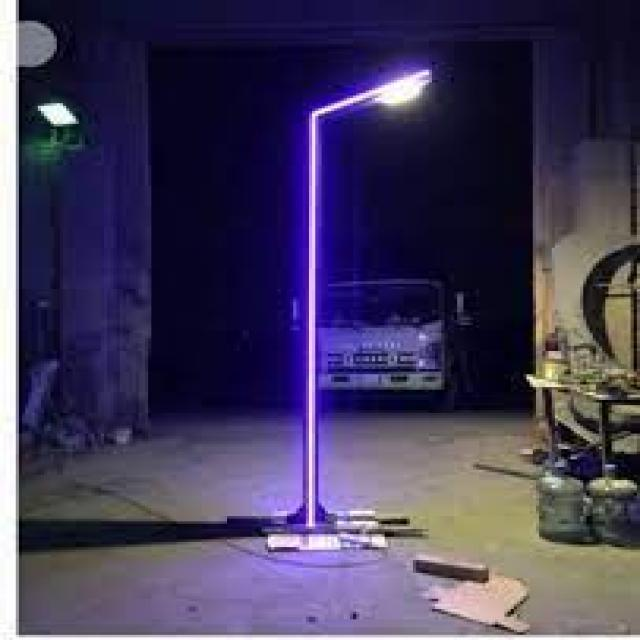Street Light: (293, 65, 435, 529)
